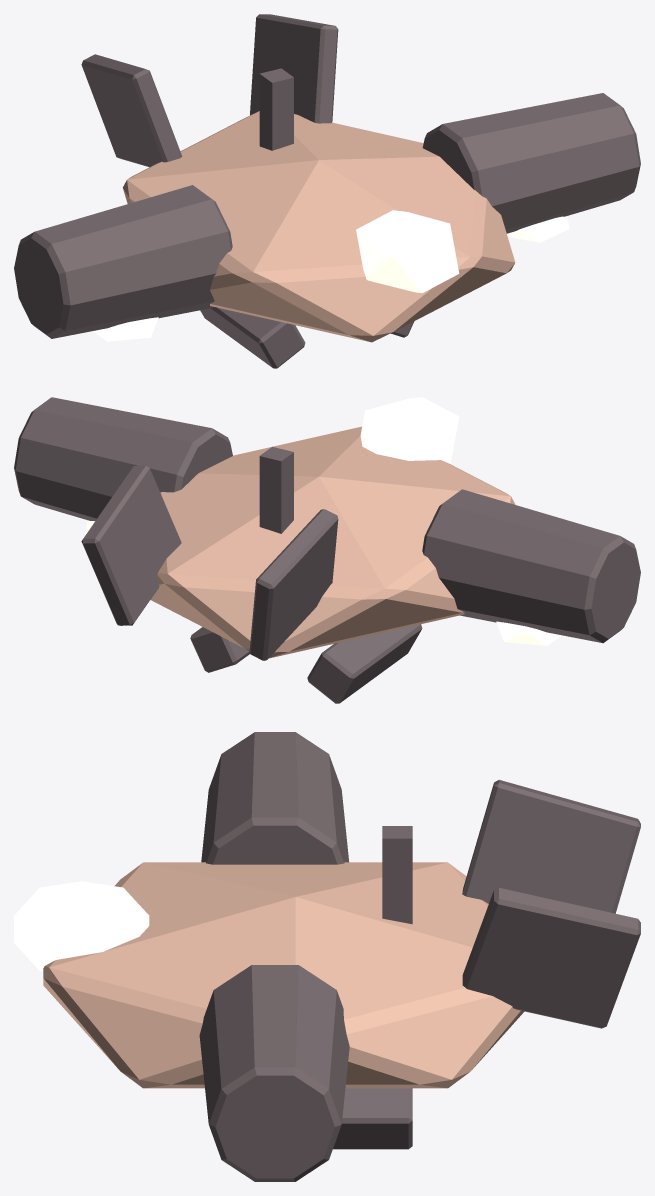
The model's file is skiff.glb.
The picture shows the model from 3 angles, top to bottom: view 1: azimuth 30°, elevation 25°; view 2: azimuth 150°, elevation 25°; view 3: azimuth 270°, elevation 25°; orthographic projection. The views are drawn at different scales.
Parts seen in each view (by area): view 1: Body, LiftPod, Fin, Sensor, Claw, Mast, Intake; view 2: Body, LiftPod, Fin, Claw, Sensor, Mast, Intake; view 3: Body, LiftPod, Fin, Sensor, Claw, Mast.
Boxes of the visible parts, x1,y1,x2,y2 form: Body: (122,111,515,342); LiftPod: (14,93,640,338); Fin: (81,14,338,167); Sensor: (356,210,459,292); Claw: (200,307,414,368); Mast: (259,68,293,150); Intake: (93,216,569,341); Body: (150,426,515,658); LiftPod: (14,397,640,643); Fin: (81,465,338,660); Claw: (190,624,422,703); Sensor: (360,397,459,463); Mast: (259,446,293,533); Intake: (85,520,561,645); Body: (43,862,524,1088); LiftPod: (199,732,349,1181); Fin: (462,779,640,1028); Sensor: (14,881,149,971); Claw: (333,1088,412,1149); Mast: (382,826,412,924).
Size of the model in its own units: 1.58 by 0.6039 by 1.23.
